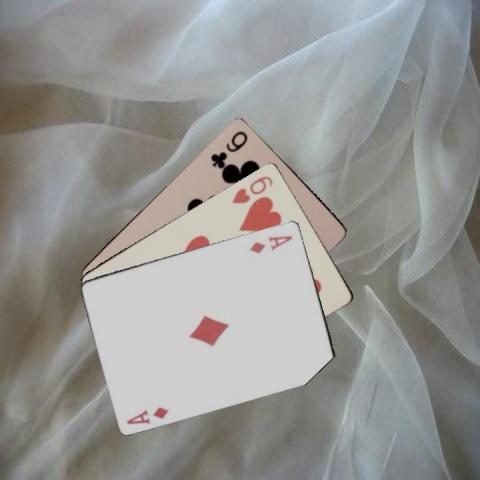6h: (229, 172, 275, 205)
9c: (207, 127, 250, 168)
Ad: (246, 232, 295, 255), (123, 404, 170, 426)
